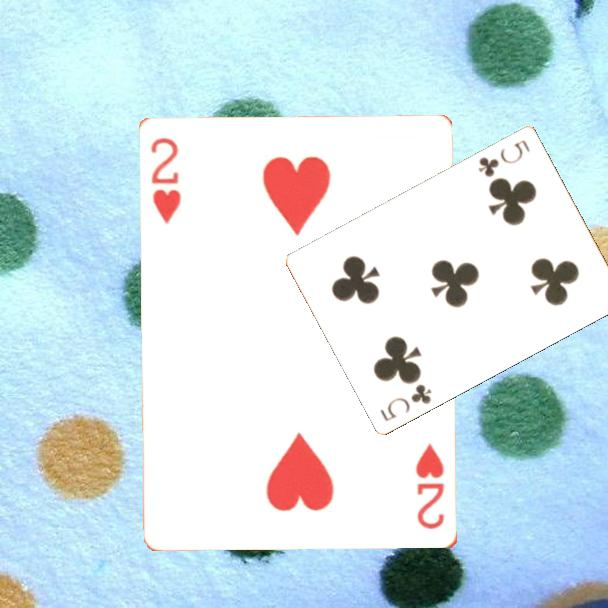c05: (475, 136, 533, 180), (377, 380, 435, 424)
h02: (148, 135, 185, 228), (412, 440, 448, 533)
